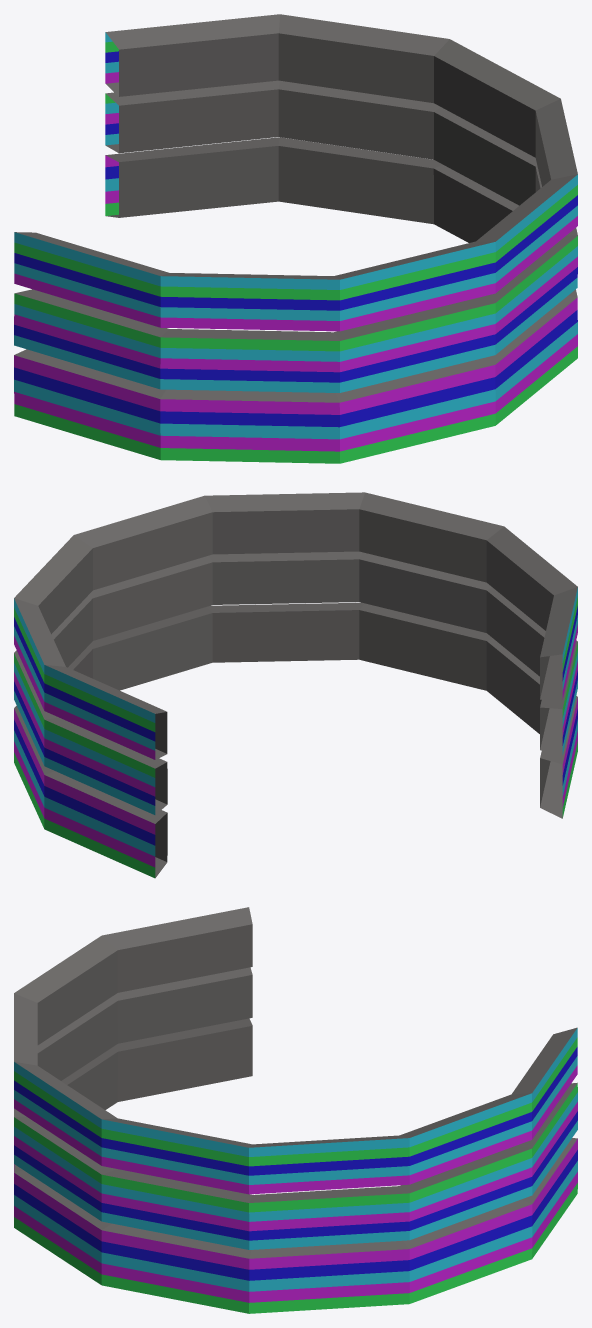
The model's file is nioLight.glb.
3 renders of one model, top to bottom at view 1: azimuth 30°, elevation 25°; view 2: azimuth 150°, elevation 25°; view 3: azimuth 270°, elevation 25°, orthographic. The views are drawn at different scales.
Parts seen in each view (by area): view 1: Plane.023; view 2: Plane.023; view 3: Plane.023.
Boxes of the visible parts, x1,y1,x2,y2 form: Plane.023: [14, 14, 577, 463]; Plane.023: [14, 492, 577, 878]; Plane.023: [14, 907, 577, 1313].
Bounding box in the file's own units: 10.56 × 3.4 × 10.45.
